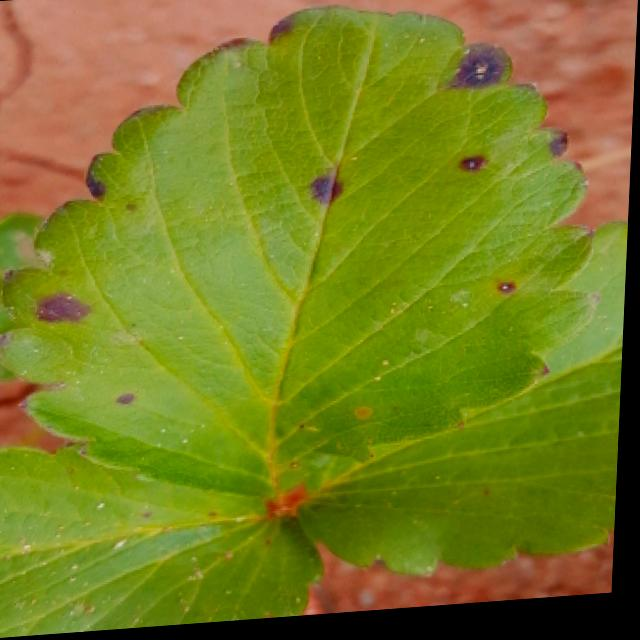Leaf Spot: (0, 11, 605, 511), (0, 446, 331, 639)
